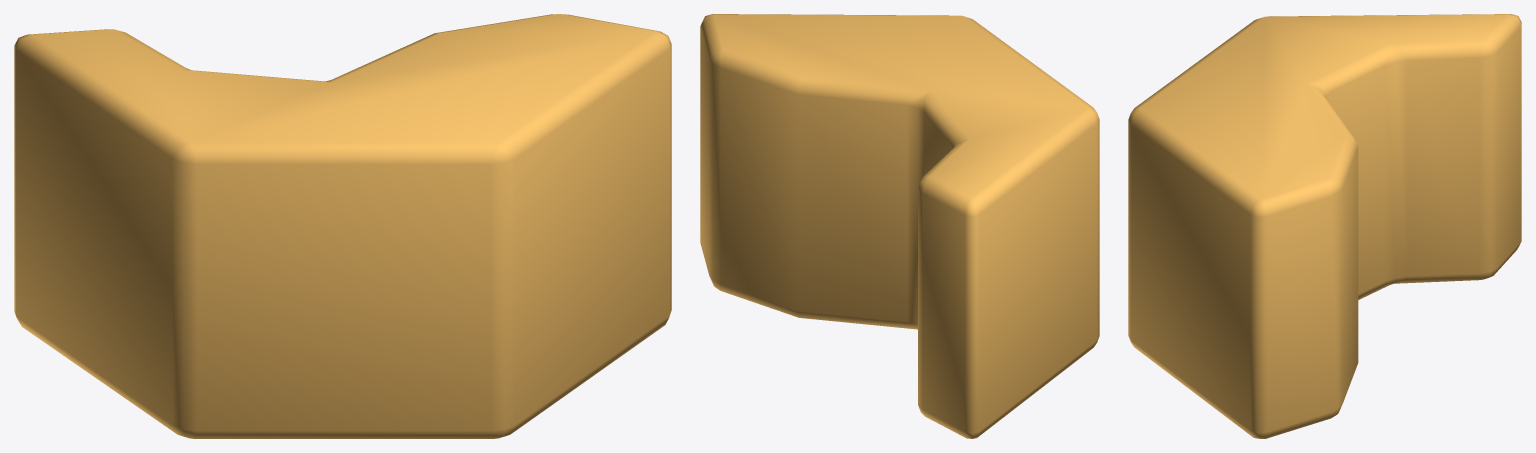
Rendered from sand_border2_001.glb.
3 renders of one model, left to right at view 1: azimuth 30°, elevation 25°; view 2: azimuth 150°, elevation 25°; view 3: azimuth 270°, elevation 25°, orthographic. The views are drawn at different scales.
Visible parts, largest first — view 1: sand_border2.001; view 2: sand_border2.001; view 3: sand_border2.001.
Boxes of the visible parts, left/top/right/bottom form: sand_border2.001: left=14, top=14, right=671, bottom=438; sand_border2.001: left=700, top=14, right=1099, bottom=438; sand_border2.001: left=1128, top=14, right=1521, bottom=438.
Bounding box in the file's own units: 7.04 × 4 × 5.96.
